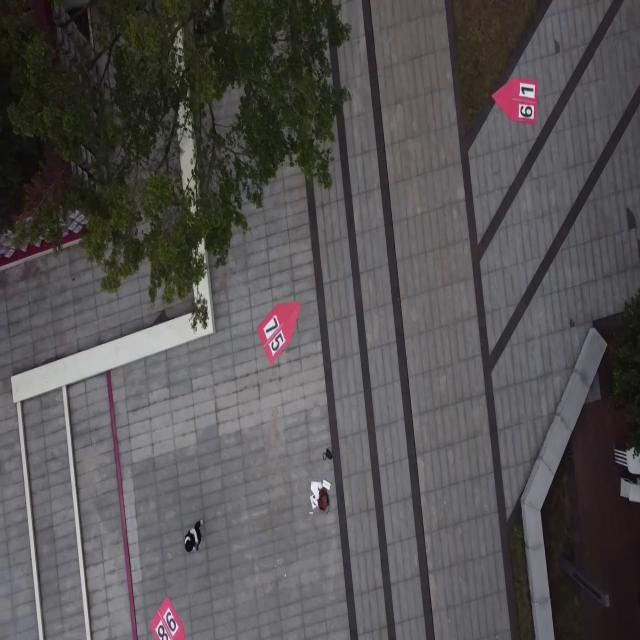-sign-: (257, 300, 301, 367), (493, 76, 538, 124), (150, 596, 186, 640)
